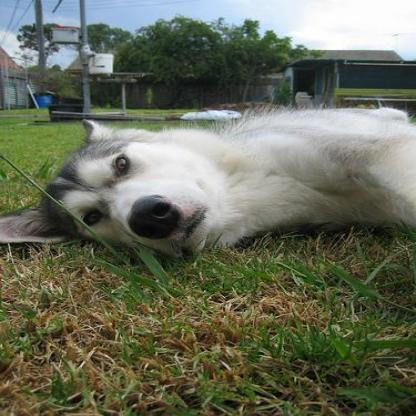Eskimo_dog: (0, 105, 412, 254)
